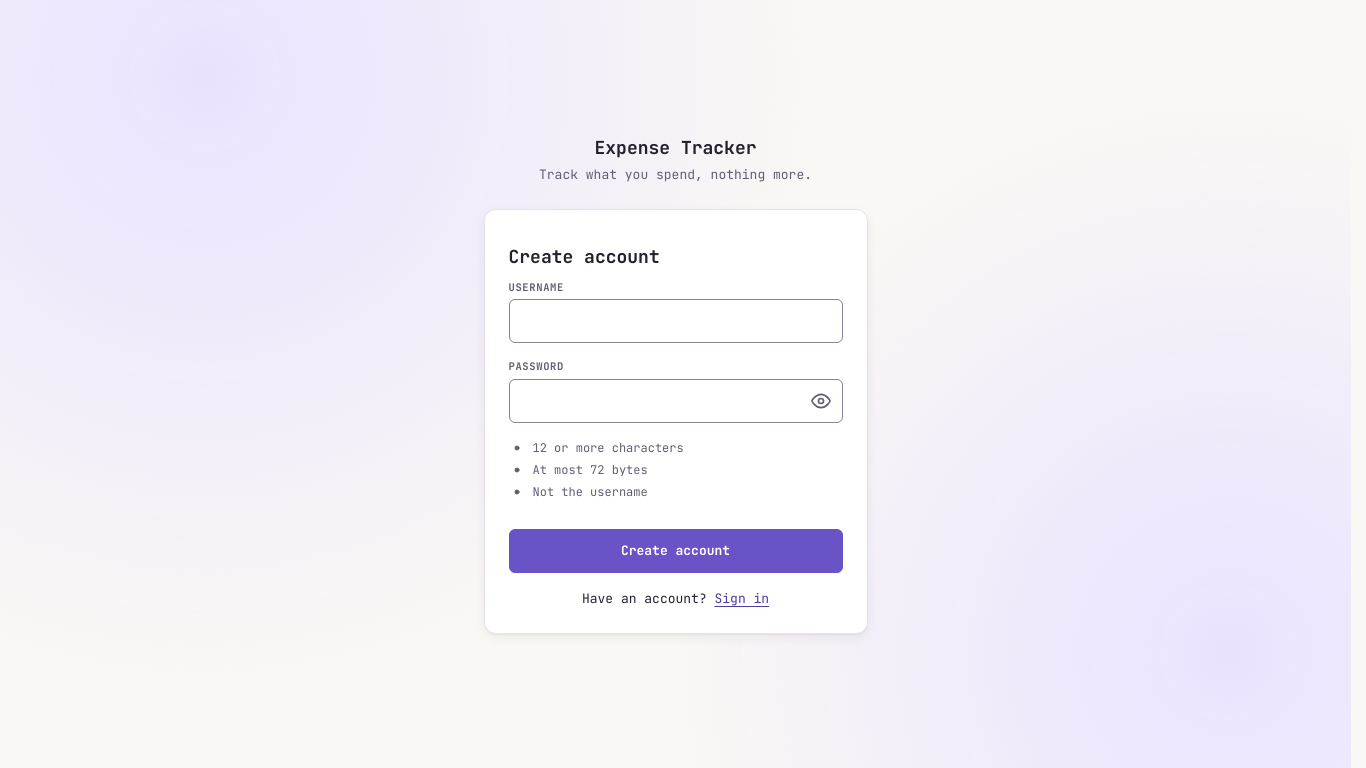
Scenario: register › shows USERNAME_TAKEN on the username field
Expected: the heading "Create account" is shown, [508,245,660,268]
Type "carol" into the field labelled "Username" at (676, 321), box [508,299,842,343]
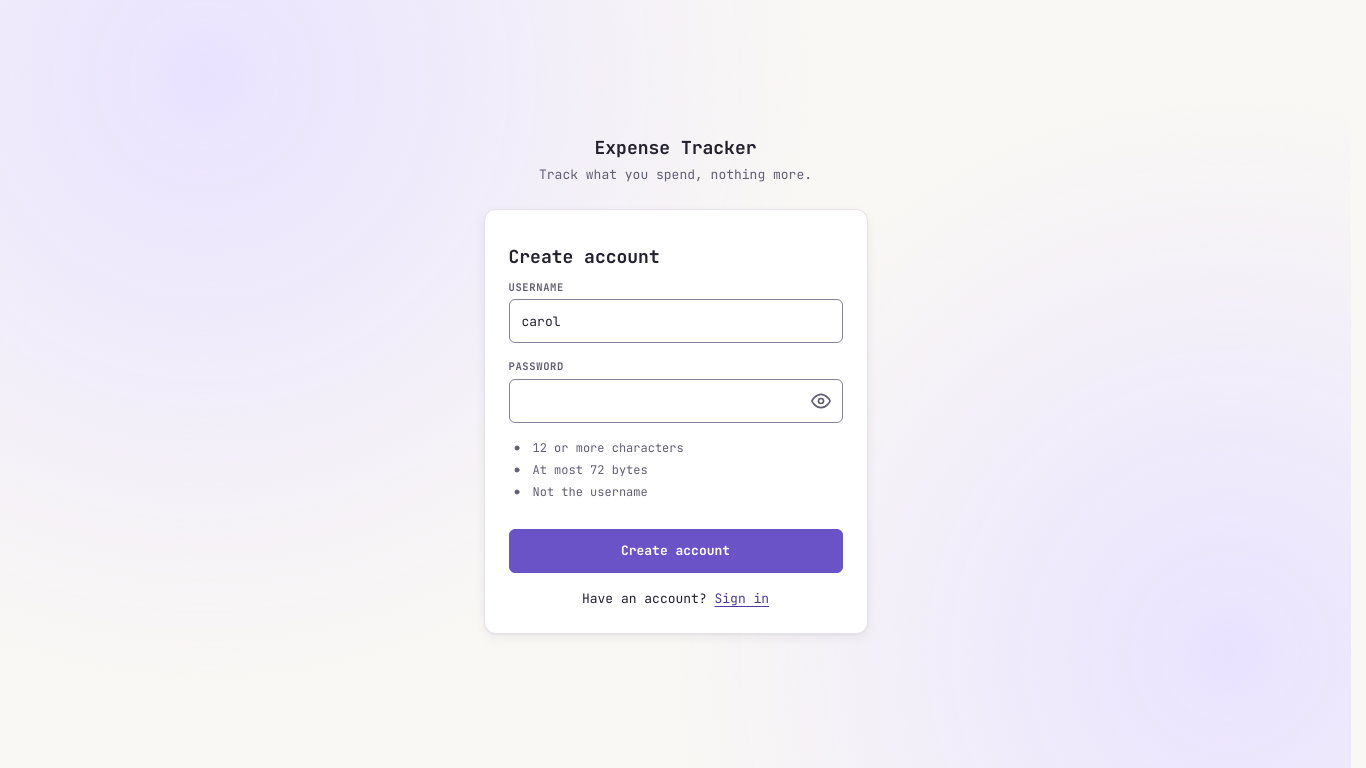
Type "a-long-password" into the password field labelled "Password" at (676, 401), box [508,379,842,423]
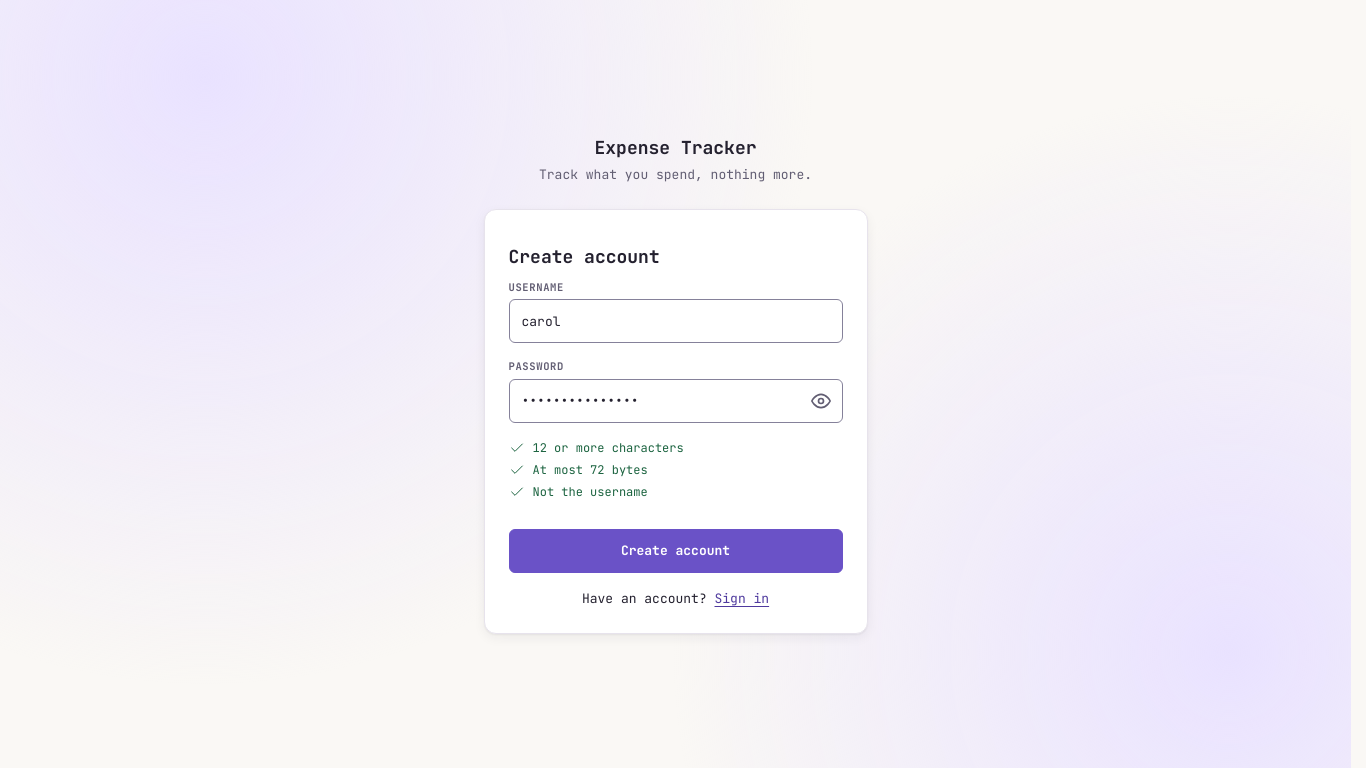
Click the button "Create account" at (676, 551), box [508,529,842,573]
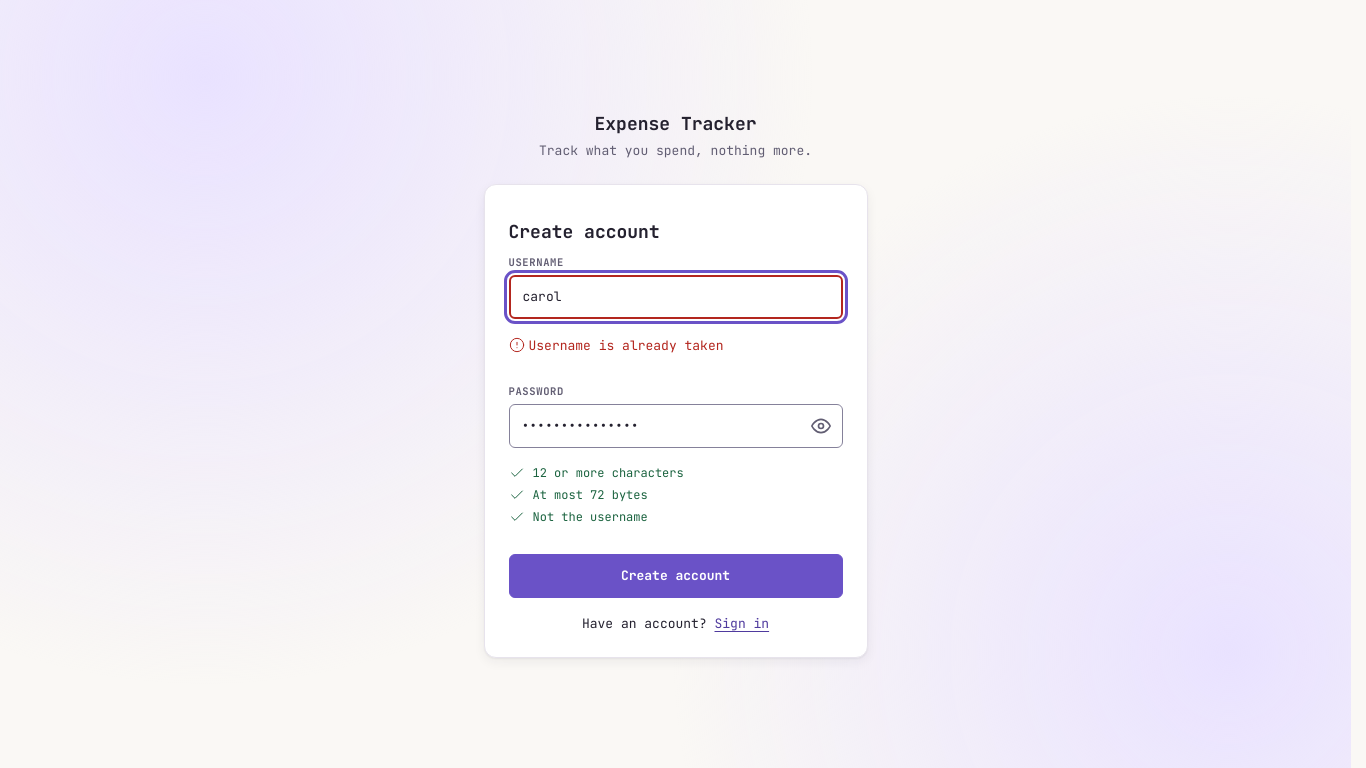
Expected: the text "Username is already taken" is shown, [508,337,724,354]
